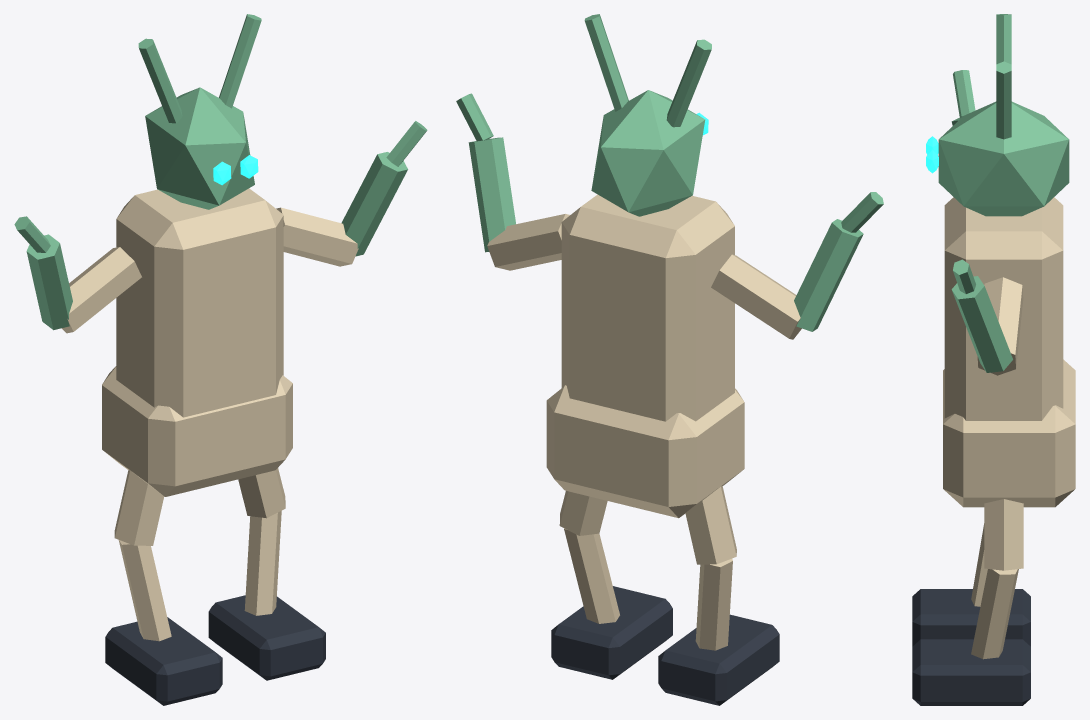
Rendered from npcs_017_seed11.glb.
3 views of the same model, side by side, from view 1: azimuth 30°, elevation 25°; view 2: azimuth 150°, elevation 25°; view 3: azimuth 270°, elevation 25° (orthographic). The views are drawn at different scales.
Visible parts, largest first — view 1: npcs_017_seed11; view 2: npcs_017_seed11; view 3: npcs_017_seed11.
Part boxes in pixels (bbox=[...]): npcs_017_seed11: bbox=[14, 14, 427, 705]; npcs_017_seed11: bbox=[456, 14, 883, 705]; npcs_017_seed11: bbox=[912, 14, 1075, 705].
Size of the model in its own units: 1.32 by 1.94 by 0.4549.
